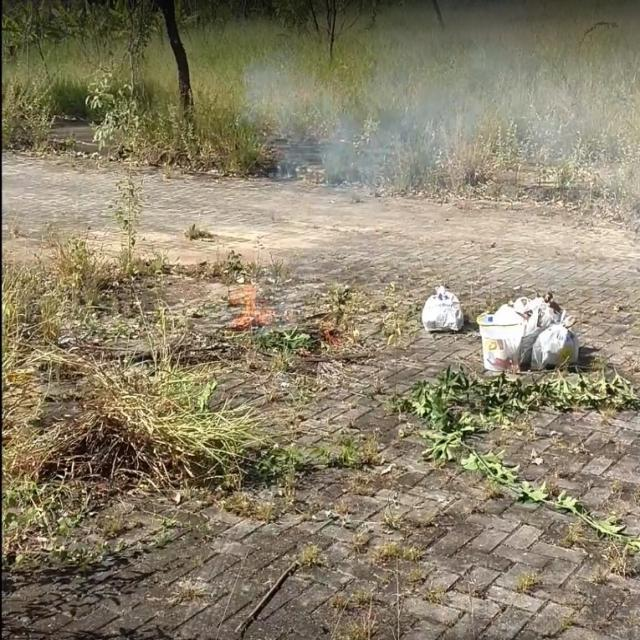Fire: (232, 288, 272, 328)
